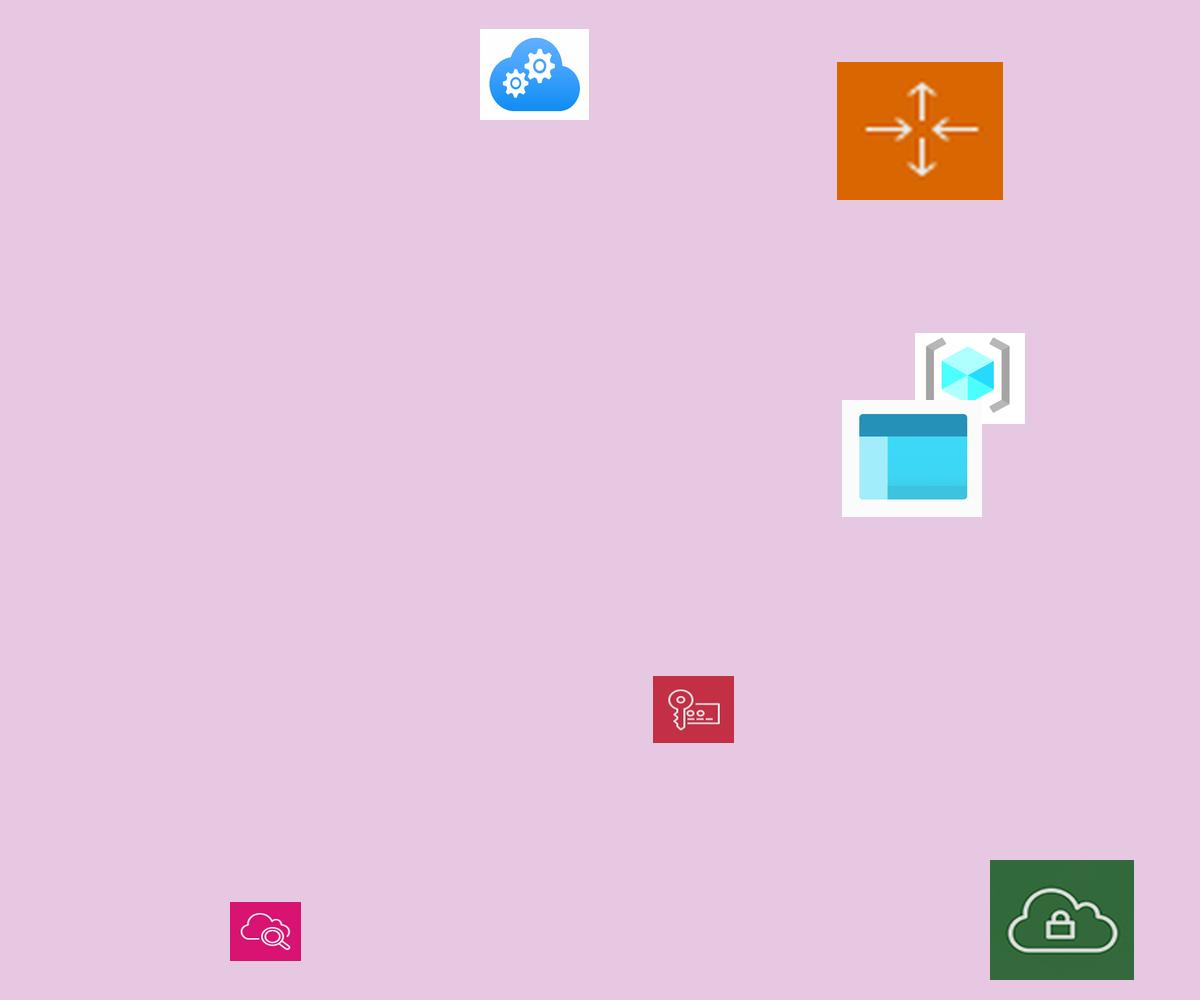AWS-CloudWatch: (230, 902, 301, 961)
AWS-Key-Management-Service: (653, 676, 734, 743)
AWS-Private_vpc: (990, 860, 1134, 980)
AWS-Scaling-group: (837, 62, 1003, 200)
Azure_cloud_services: (480, 29, 589, 120)
Azure_management-portal: (842, 400, 982, 517)
Azure_resource_group: (915, 333, 1025, 424)
